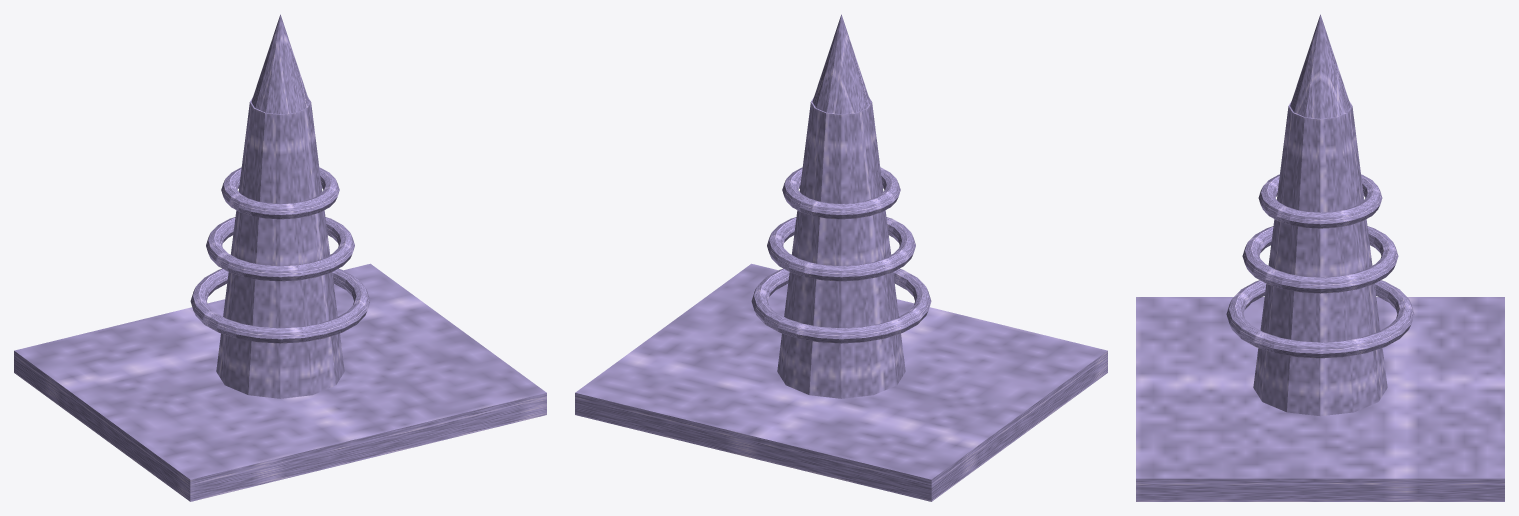
The model's file is thunder_obelisk_01.glb.
The picture shows the model from 3 angles, left to right: view 1: azimuth 30°, elevation 25°; view 2: azimuth 150°, elevation 25°; view 3: azimuth 270°, elevation 25°; orthographic projection. The views are drawn at different scales.
Parts seen in each view (by area): view 1: Foundation, ThunderPillar, Conductor, Conductor.001, LightningTip, Conductor.002; view 2: Foundation, ThunderPillar, Conductor, Conductor.001, LightningTip, Conductor.002; view 3: Foundation, ThunderPillar, Conductor, Conductor.001, LightningTip, Conductor.002.
Boxes of the visible parts, x1,y1,x2,y2 form: Foundation: [14, 263, 546, 501]; ThunderPillar: [216, 97, 344, 398]; Conductor: [190, 268, 370, 343]; Conductor.001: [206, 217, 354, 281]; LightningTip: [251, 14, 309, 114]; Conductor.002: [221, 167, 339, 219]; Foundation: [575, 263, 1107, 501]; ThunderPillar: [777, 97, 905, 398]; Conductor: [751, 268, 931, 343]; Conductor.001: [767, 217, 915, 281]; LightningTip: [812, 14, 870, 114]; Conductor.002: [782, 167, 900, 219]; Foundation: [1136, 297, 1504, 501]; ThunderPillar: [1253, 101, 1387, 416]; Conductor: [1226, 280, 1414, 358]; Conductor.001: [1242, 226, 1398, 293]; LightningTip: [1290, 14, 1350, 118]; Conductor.002: [1258, 174, 1382, 228].
Size of the model in its own units: 4.03 by 4.1 by 3.45.
1 material, 1 textured.
